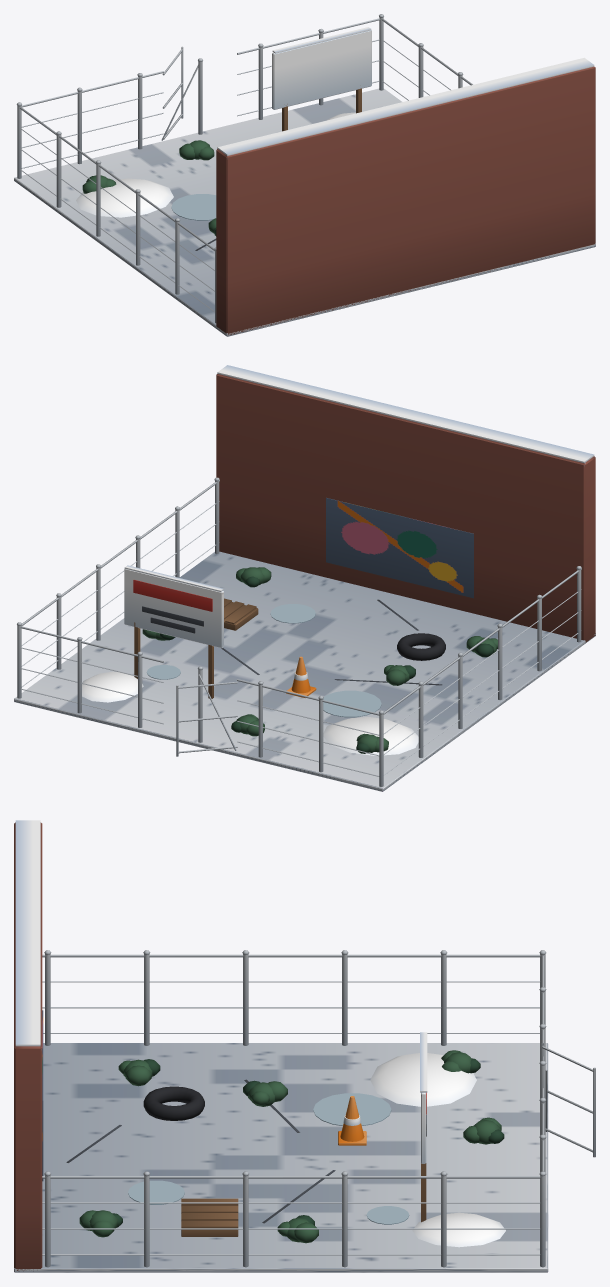
Rendered from ck_meme_vacant_lot.fbx.
3 views of the same model, one above another, from view 1: azimuth 30°, elevation 25°; view 2: azimuth 150°, elevation 25°; view 3: azimuth 270°, elevation 25° (orthographic). The views are drawn at different scales.
Visible parts, largest first — view 1: ck_meme_vacant_lot; view 2: ck_meme_vacant_lot; view 3: ck_meme_vacant_lot.
Part boxes in pixels (bbox=[...]): ck_meme_vacant_lot: bbox=[14, 14, 595, 336]; ck_meme_vacant_lot: bbox=[14, 365, 595, 791]; ck_meme_vacant_lot: bbox=[14, 820, 595, 1272].
Bounding box in the file's own units: 3002 × 1458 × 3270.
